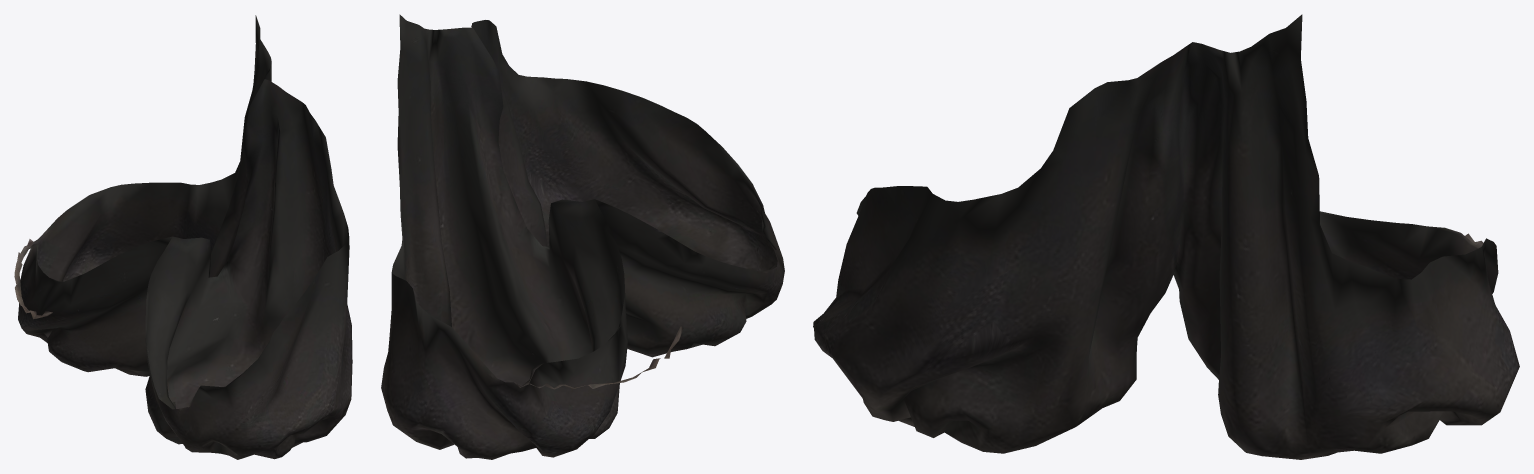
File: pants.glb
The picture shows the model from 3 angles, left to right: view 1: azimuth 30°, elevation 25°; view 2: azimuth 150°, elevation 25°; view 3: azimuth 270°, elevation 25°; orthographic projection. The views are drawn at different scales.
Parts seen in each view (by area): view 1: pants; view 2: pants; view 3: pants.
Boxes of the visible parts, x1,y1,x2,y2 form: pants: (14, 15, 352, 459); pants: (381, 14, 784, 459); pants: (813, 14, 1519, 459).
Size of the model in its own units: 0.208 by 0.2797 by 0.369.
Materials: 1 (1 with a texture image).
